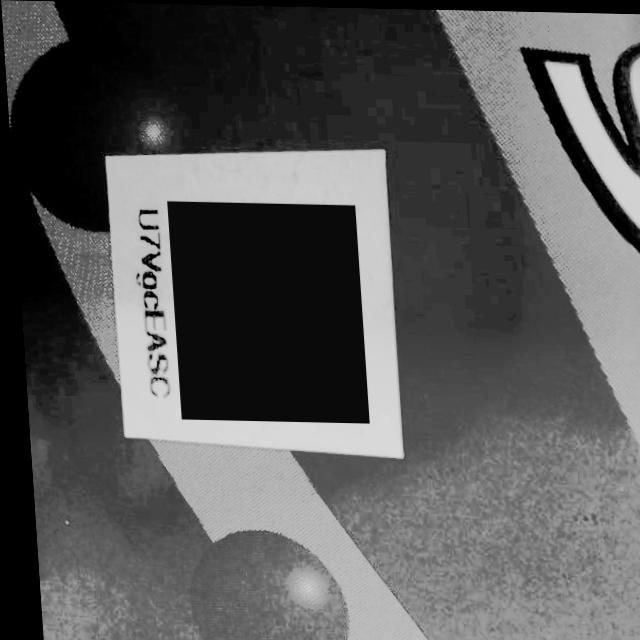qr_code: (163, 201, 363, 422)
